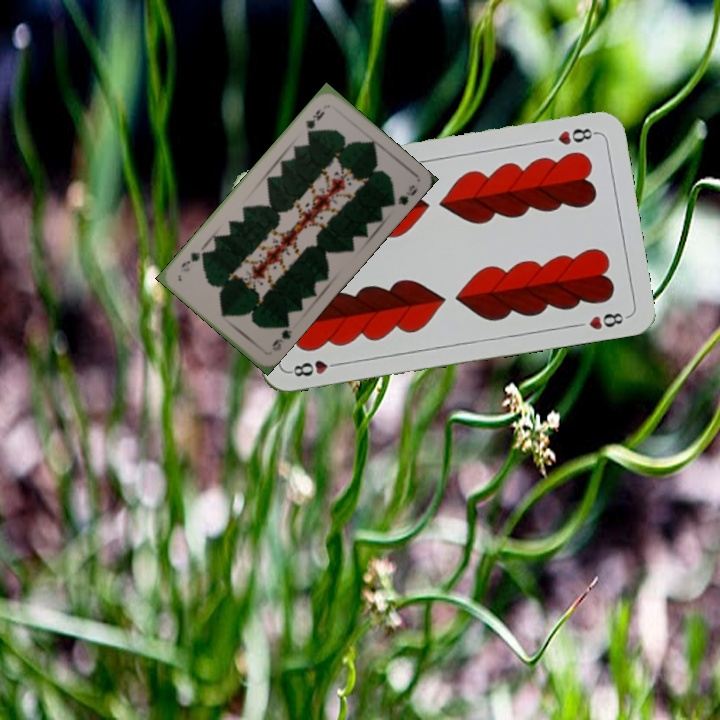G9: (268, 319, 295, 354), (302, 106, 328, 137)
H8: (285, 356, 344, 379), (554, 124, 600, 148)
